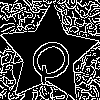Q: (24, 29, 84, 88)
